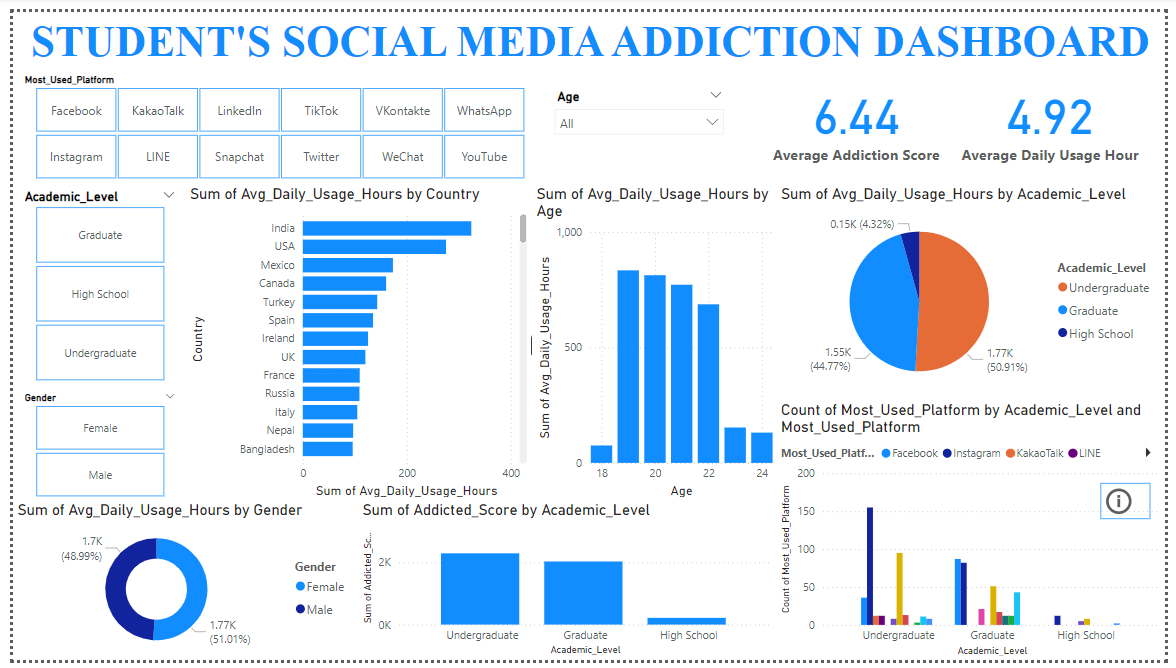

This screenshot's page, from the dashboard's own definition file:
{"tool":"powerbi","page":{"name":"Page 1","canvas":[1280,720],"ordinal":0},"visuals":[{"type":"textbox","box":[15,0,1265,71.7],"z":0},{"type":"card","fields":{"Values":["Students Social Media Addiction.Average Addiction Score"]},"box":[816,64,240,112],"z":1000},{"type":"card","fields":{"Values":["Students Social Media Addiction.Average Daily Usage Hour"]},"box":[1040,64,224,112],"z":2000},{"type":"card","fields":{"Values":["Students Social Media Addiction.Average Mental Health Score"]},"box":[496,304,240,128],"z":3000},{"type":"barChart","fields":{"Category":["Students Social Media Addiction.Country"],"Y":["Sum(Students Social Media Addiction.Avg_Daily_Usage_Hours)"]},"box":[192,192,384,352],"z":4000},{"type":"pieChart","fields":{"Category":["Students Social Media Addiction.Academic_Level"],"Y":["Sum(Students Social Media Addiction.Avg_Daily_Usage_Hours)"]},"box":[848,192,432,240],"z":5000},{"type":"columnChart","fields":{"Category":["Students Social Media Addiction.Age"],"Y":["Sum(Students Social Media Addiction.Avg_Daily_Usage_Hours)"]},"box":[576,192,272,352],"z":6000},{"type":"donutChart","fields":{"Category":["Students Social Media Addiction.Gender"],"Y":["Sum(Students Social Media Addiction.Avg_Daily_Usage_Hours)"]},"box":[0,544,384,176],"z":7000},{"type":"columnChart","fields":{"Category":["Students Social Media Addiction.Academic_Level"],"Y":["Sum(Students Social Media Addiction.Addicted_Score)"]},"box":[384,544,464,176],"z":8000},{"type":"clusteredColumnChart","fields":{"Category":["Students Social Media Addiction.Academic_Level"],"Series":["Students Social Media Addiction.Most_Used_Platform"],"Y":["CountNonNull(Students Social Media Addiction.Most_Used_Platform)"]},"box":[848,432,432,288],"z":9000},{"type":"slicer","fields":{"Values":["Students Social Media Addiction.Academic_Level"]},"box":[0,192,192,224],"z":10000},{"type":"slicer","fields":{"Values":["Students Social Media Addiction.Age"]},"box":[592,80,208,112],"z":11000},{"type":"slicer","fields":{"Values":["Students Social Media Addiction.Most_Used_Platform"]},"box":[0,64,592,128],"z":12000},{"type":"slicer","fields":{"Values":["Students Social Media Addiction.Gender"]},"box":[0,416,192,128],"z":13000},{"type":"actionButton","title":"Click to view Detail","box":[1208.3,523.3,55,40],"z":14000}]}

Visuals, with their boxes in screenshot pixels (x1, y1, x2, y2), scaled from the page's 1280x720 canvas onto the 1176x668 screenshot:
textbox: bbox=[14, 0, 1175, 67]
card - Students Social Media Addiction.Average Addiction Score: bbox=[750, 59, 970, 163]
card - Students Social Media Addiction.Average Daily Usage Hour: bbox=[956, 59, 1161, 163]
card - Students Social Media Addiction.Average Mental Health Score: bbox=[456, 282, 676, 401]
barChart - Students Social Media Addiction.Country x Sum(Students Social Media Addiction.Avg_Daily_Usage_Hours): bbox=[176, 178, 529, 505]
pieChart - Students Social Media Addiction.Academic_Level x Sum(Students Social Media Addiction.Avg_Daily_Usage_Hours): bbox=[779, 178, 1175, 401]
columnChart - Students Social Media Addiction.Age x Sum(Students Social Media Addiction.Avg_Daily_Usage_Hours): bbox=[529, 178, 779, 505]
donutChart - Students Social Media Addiction.Gender x Sum(Students Social Media Addiction.Avg_Daily_Usage_Hours): bbox=[0, 505, 353, 667]
columnChart - Students Social Media Addiction.Academic_Level x Sum(Students Social Media Addiction.Addicted_Score): bbox=[353, 505, 779, 667]
clusteredColumnChart - Students Social Media Addiction.Academic_Level x Students Social Media Addiction.Most_Used_Platform: bbox=[779, 401, 1175, 667]
slicer - Students Social Media Addiction.Academic_Level: bbox=[0, 178, 176, 386]
slicer - Students Social Media Addiction.Age: bbox=[544, 74, 735, 178]
slicer - Students Social Media Addiction.Most_Used_Platform: bbox=[0, 59, 544, 178]
slicer - Students Social Media Addiction.Gender: bbox=[0, 386, 176, 505]
"Click to view Detail" actionButton: bbox=[1110, 486, 1161, 523]
